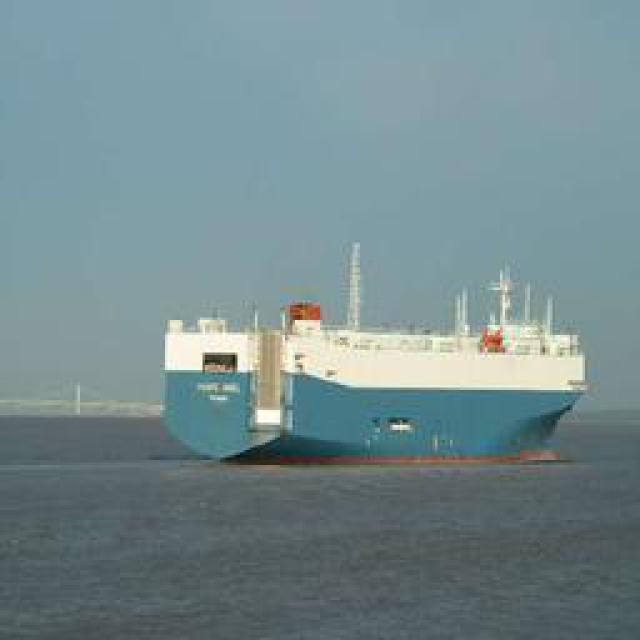Ship: (285, 289, 590, 462)
